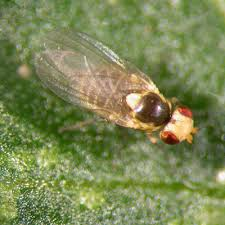Trifoli: (21, 23, 198, 154)
